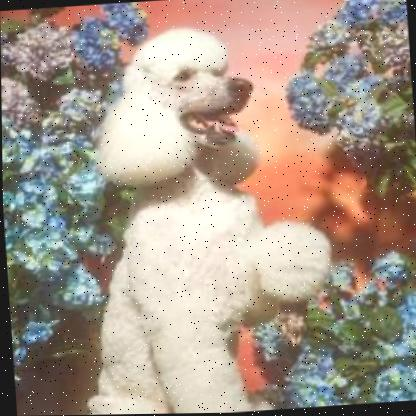dog: (54, 15, 341, 415)
